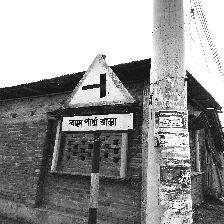Side-road-left: (60, 55, 138, 134)
